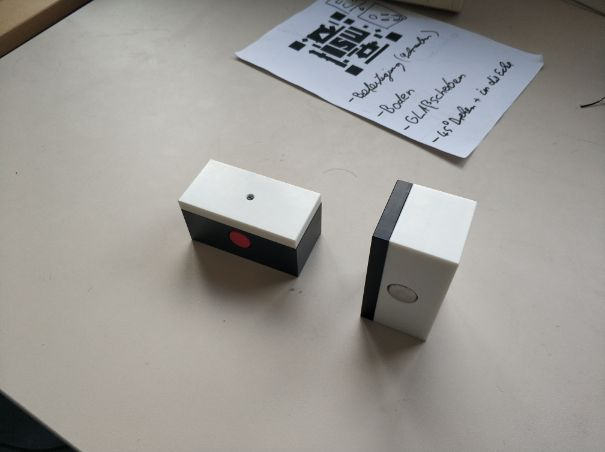black+white+silver: (358, 179, 478, 346)
white+black+red: (174, 156, 327, 282)
